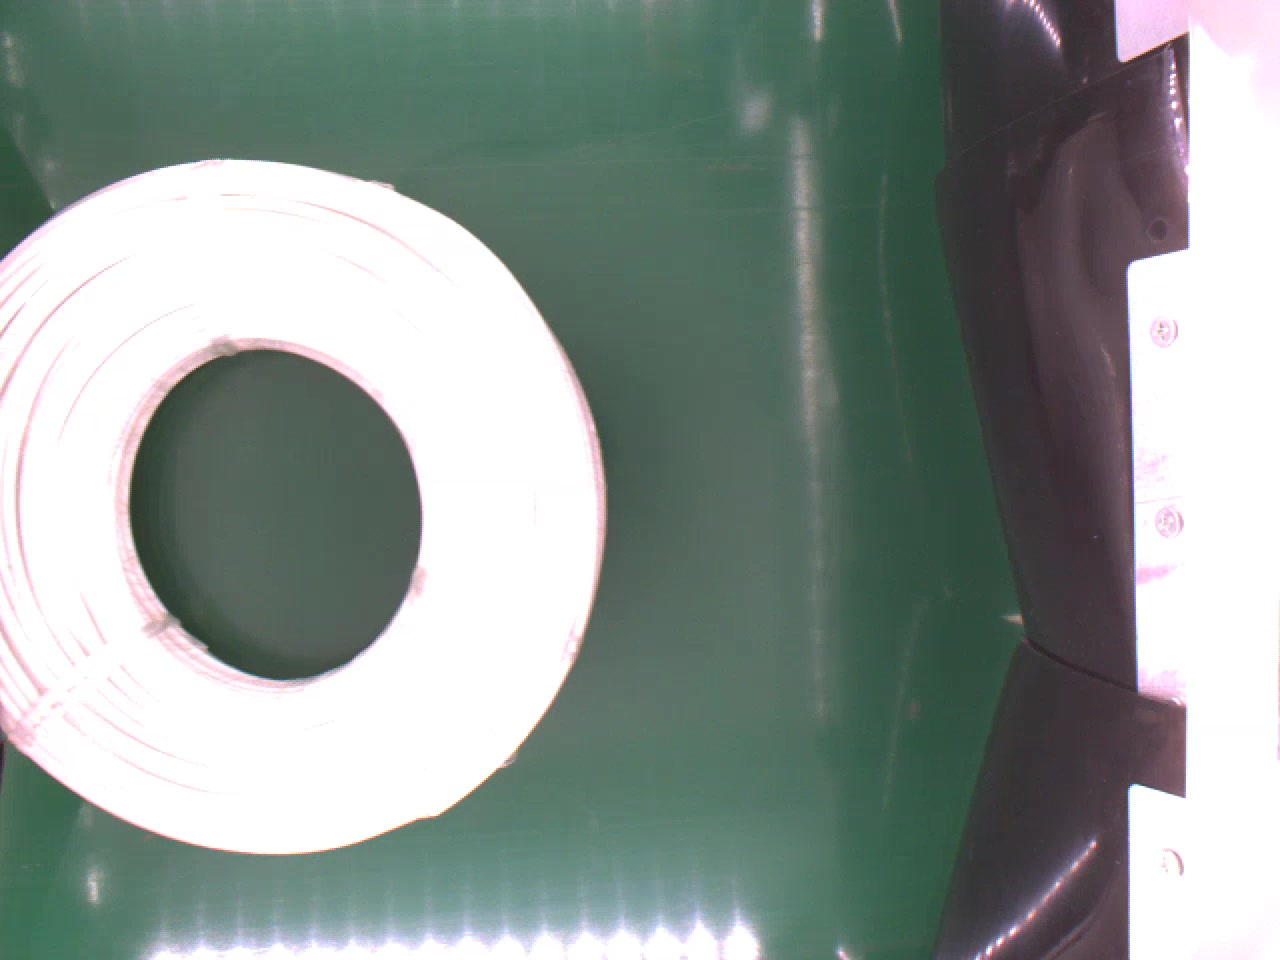white: (0, 155, 605, 864)
